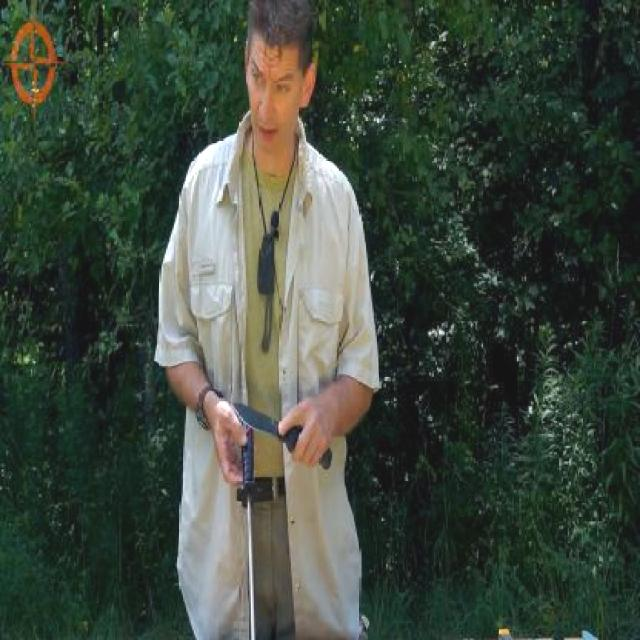knife: (228, 386, 335, 471)
